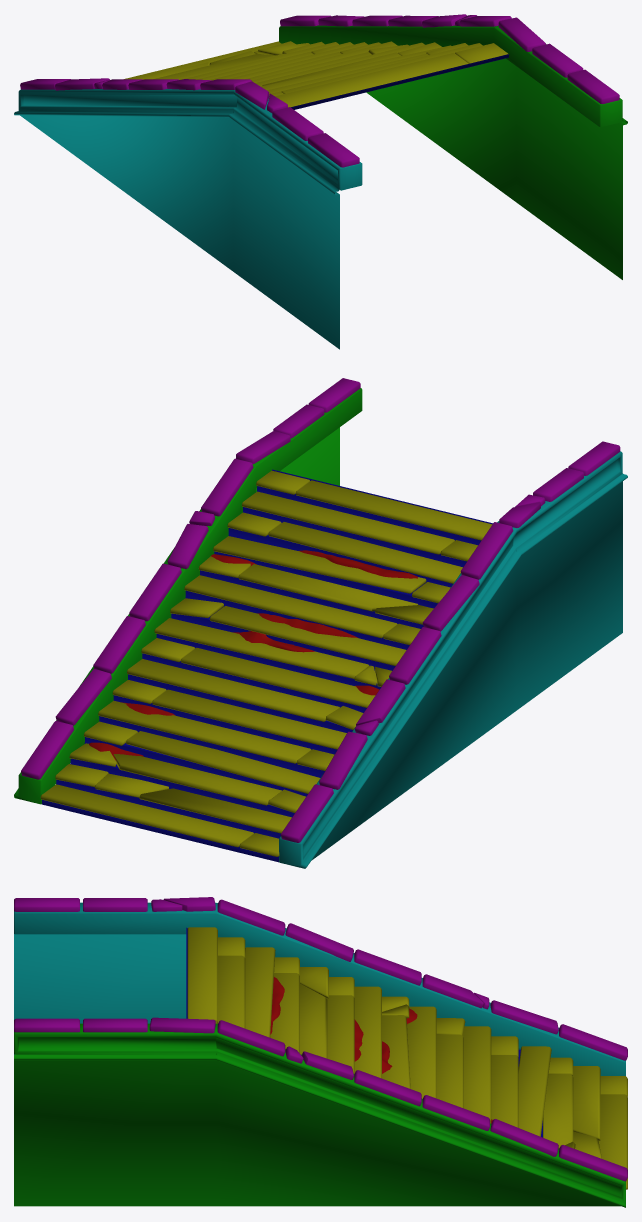
Rendered from W1_Grand_Escalier_Intact.fbx.
The picture shows the model from 3 angles, top to bottom: view 1: azimuth 30°, elevation 25°; view 2: azimuth 150°, elevation 25°; view 3: azimuth 270°, elevation 25°; orthographic projection. The views are drawn at different scales.
Visible parts, largest first — view 1: W1_Grand_Escalier_Intact_Cote_Droit, W1_Grand_Escalier_Intact_Cote_Gauche, W1_Grand_Escalier_Intact_Marches, W1_Grand_Escalier_Intact_Briques, W1_Grand_Escalier_Intact_Base; view 2: W1_Grand_Escalier_Intact_Marches, W1_Grand_Escalier_Intact_Cote_Droit, W1_Grand_Escalier_Intact_Base, W1_Grand_Escalier_Intact_Briques, W1_Grand_Escalier_Intact_Cote_Gauche, W1_Grand_Escalier_Intact_Sable; view 3: W1_Grand_Escalier_Intact_Cote_Gauche, W1_Grand_Escalier_Intact_Marches, W1_Grand_Escalier_Intact_Cote_Droit, W1_Grand_Escalier_Intact_Briques, W1_Grand_Escalier_Intact_Sable.
Part boxes in pixels (left/top/right/bottom): W1_Grand_Escalier_Intact_Cote_Droit: left=14, top=89, right=362, bottom=349; W1_Grand_Escalier_Intact_Cote_Gauche: left=279, top=25, right=627, bottom=279; W1_Grand_Escalier_Intact_Marches: left=124, top=41, right=508, bottom=107; W1_Grand_Escalier_Intact_Briques: left=20, top=14, right=619, bottom=167; W1_Grand_Escalier_Intact_Base: left=291, top=54, right=508, bottom=109; W1_Grand_Escalier_Intact_Marches: left=40, top=470, right=492, bottom=856; W1_Grand_Escalier_Intact_Cote_Droit: left=279, top=451, right=627, bottom=868; W1_Grand_Escalier_Intact_Base: left=41, top=469, right=492, bottom=862; W1_Grand_Escalier_Intact_Briques: left=21, top=378, right=620, bottom=842; W1_Grand_Escalier_Intact_Cote_Gauche: left=14, top=388, right=362, bottom=804; W1_Grand_Escalier_Intact_Sable: left=89, top=550, right=417, bottom=760; W1_Grand_Escalier_Intact_Cote_Gauche: left=14, top=1023, right=625, bottom=1207; W1_Grand_Escalier_Intact_Marches: left=187, top=927, right=627, bottom=1189; W1_Grand_Escalier_Intact_Cote_Droit: left=14, top=902, right=625, bottom=1076; W1_Grand_Escalier_Intact_Briques: left=14, top=897, right=627, bottom=1181; W1_Grand_Escalier_Intact_Sable: left=270, top=977, right=492, bottom=1123.
Bounding box in the file's own units: 737 × 451 × 1405.
